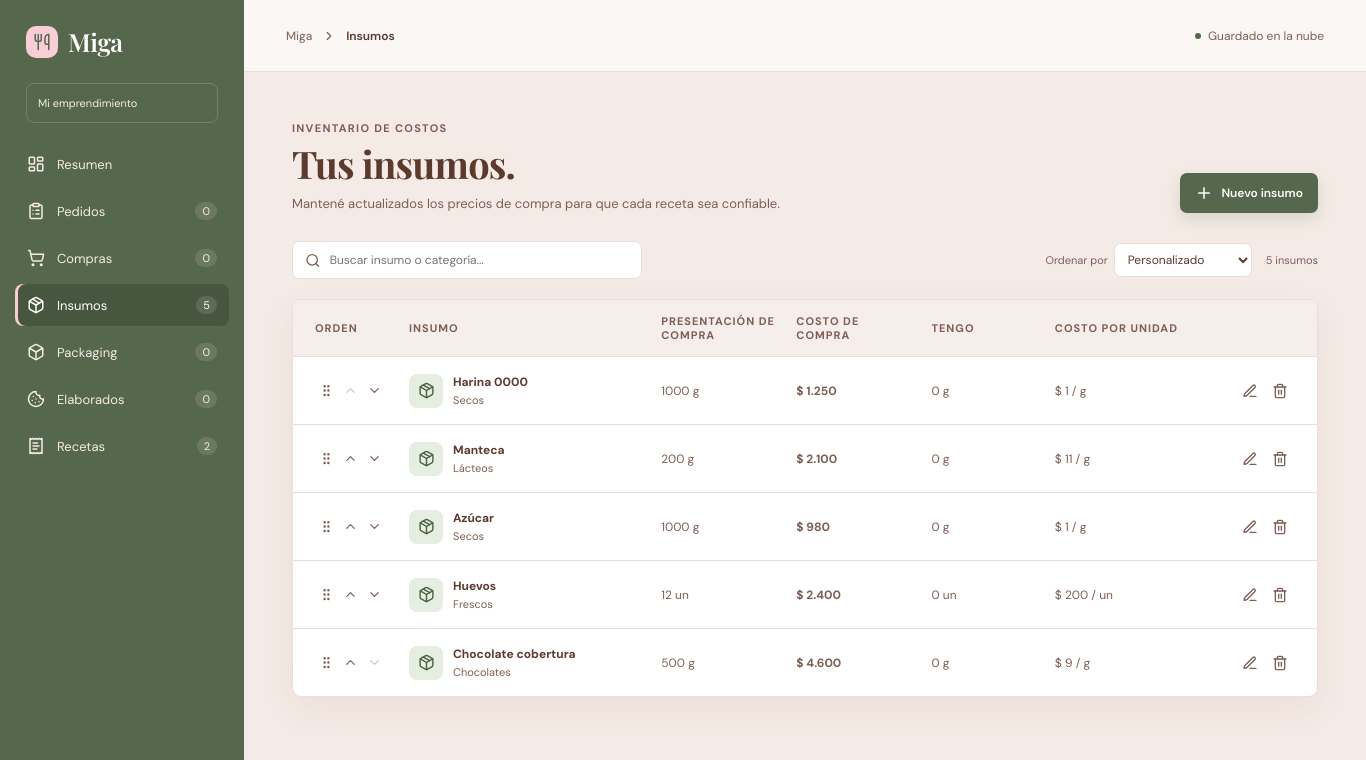
Test: Form modals › names the edit dialog after its title
Click the button named "Editar" in the row of "$ 1.250".
click(1250, 391)  # box [1235,376,1265,406]
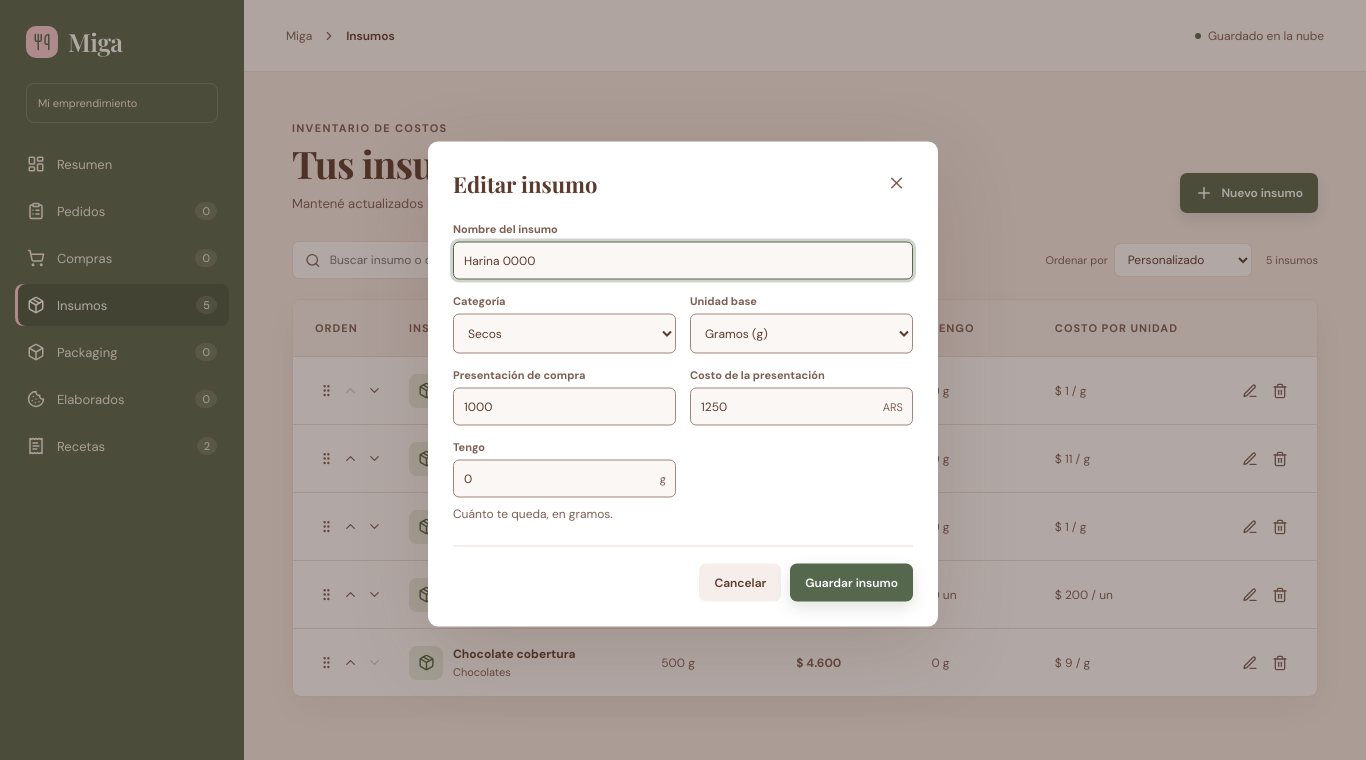
Check: the dialog "Editar insumo" is shown, box [428,142,938,626]
